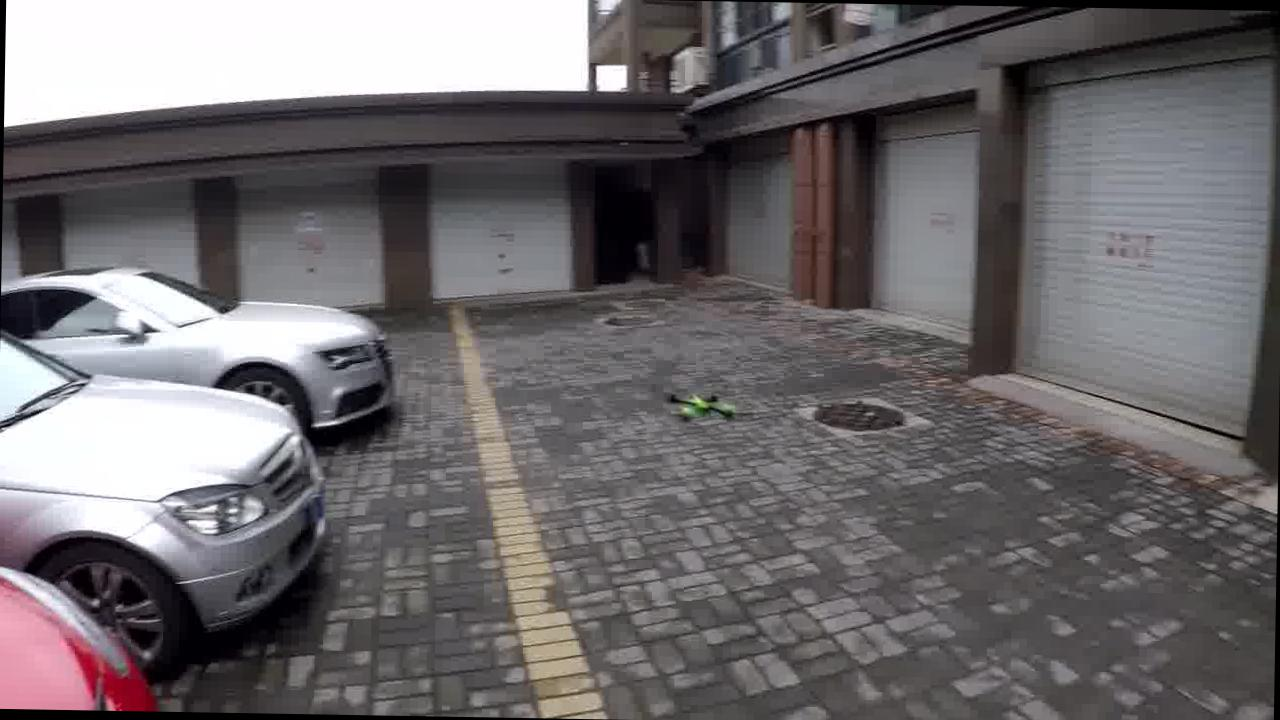drone: (643, 371, 775, 432)
